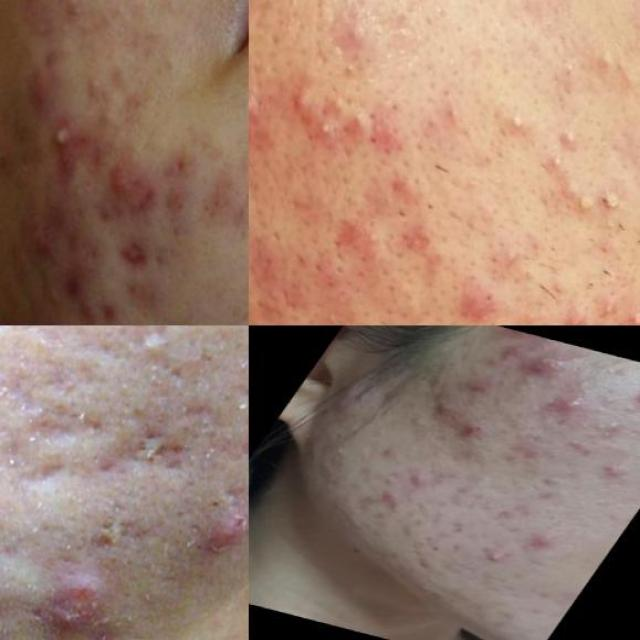acne_scars: (88, 154, 167, 228), (25, 394, 103, 467), (110, 424, 188, 494), (170, 385, 237, 450), (106, 222, 161, 286), (53, 325, 126, 345)
comedone: (123, 326, 178, 381), (274, 77, 326, 125), (324, 43, 372, 94), (587, 456, 637, 486), (431, 95, 468, 132), (319, 85, 355, 122), (590, 416, 632, 446), (553, 435, 601, 460), (342, 102, 374, 136), (502, 371, 542, 397), (534, 470, 576, 491)
folliculitis: (482, 92, 536, 158), (442, 274, 505, 326), (558, 173, 612, 230), (592, 178, 631, 230), (546, 113, 586, 154)
papule: (600, 373, 640, 413), (444, 420, 488, 450), (511, 529, 557, 554)
pustule: (468, 540, 524, 577), (303, 109, 344, 149), (615, 291, 640, 325)
sebo-crystan-conglo: (15, 539, 134, 640), (25, 95, 95, 178), (188, 494, 249, 582), (506, 348, 572, 382), (538, 392, 600, 425), (411, 388, 463, 418), (249, 73, 262, 145)
